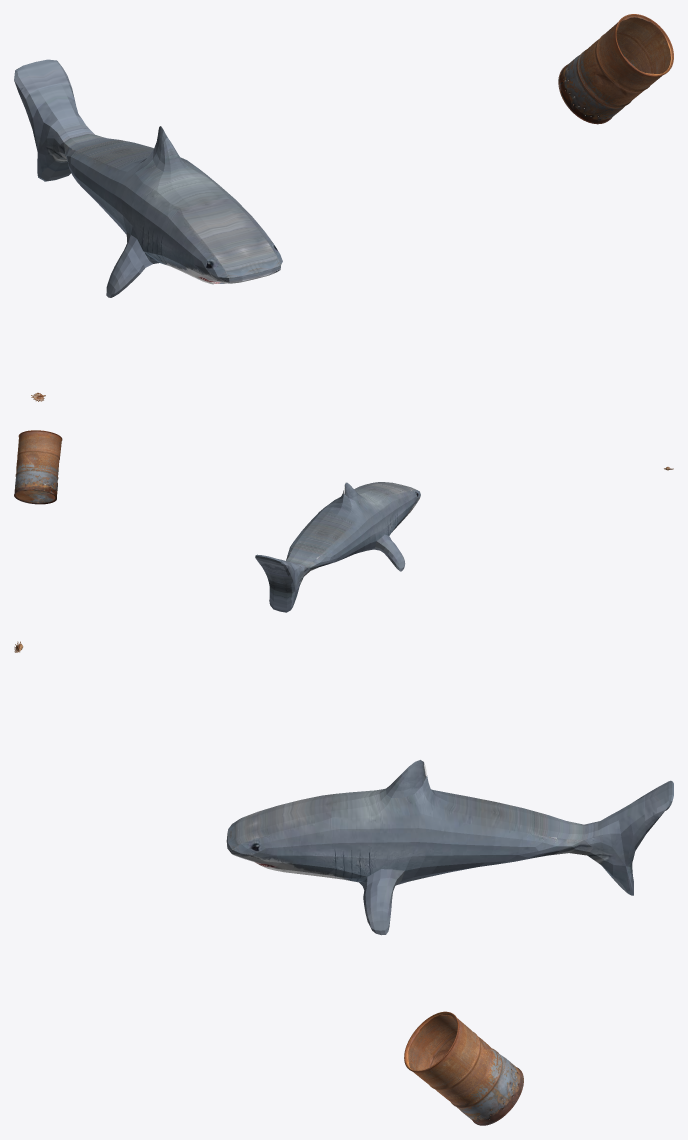
3 renders of one model, top to bottom at view 1: azimuth 30°, elevation 25°; view 2: azimuth 150°, elevation 25°; view 3: azimuth 270°, elevation 25°, orthographic. The views are drawn at different scales.
Parts seen in each view (by area): view 1: Shark, Barrel; view 2: Shark, Barrel; view 3: Shark, Barrel.
Part boxes in pixels (box(x1,y1,x2,y2)): Shark: box(14, 59, 282, 297); Barrel: box(558, 14, 673, 124); Shark: box(255, 482, 420, 612); Barrel: box(14, 430, 62, 504); Shark: box(226, 760, 673, 935); Barrel: box(404, 1011, 523, 1125).
Size of the model in its own units: 16.75 by 2.63 by 11.24.
Materials: 3 (3 with a texture image).
